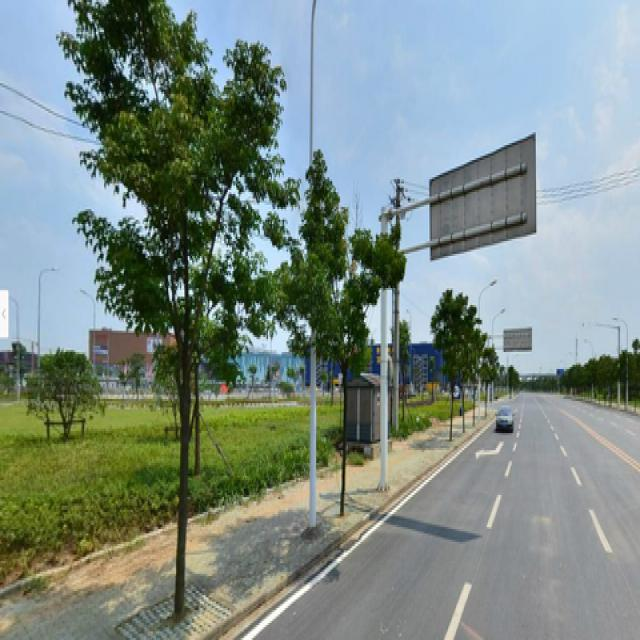koel: (83, 11, 281, 582)
